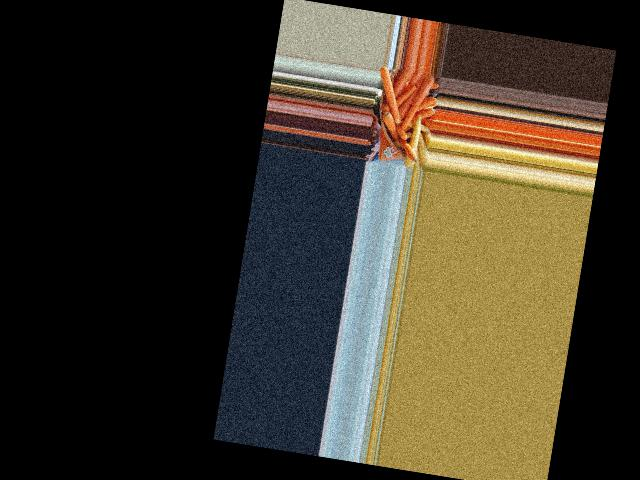carrot: (376, 112, 401, 145)
